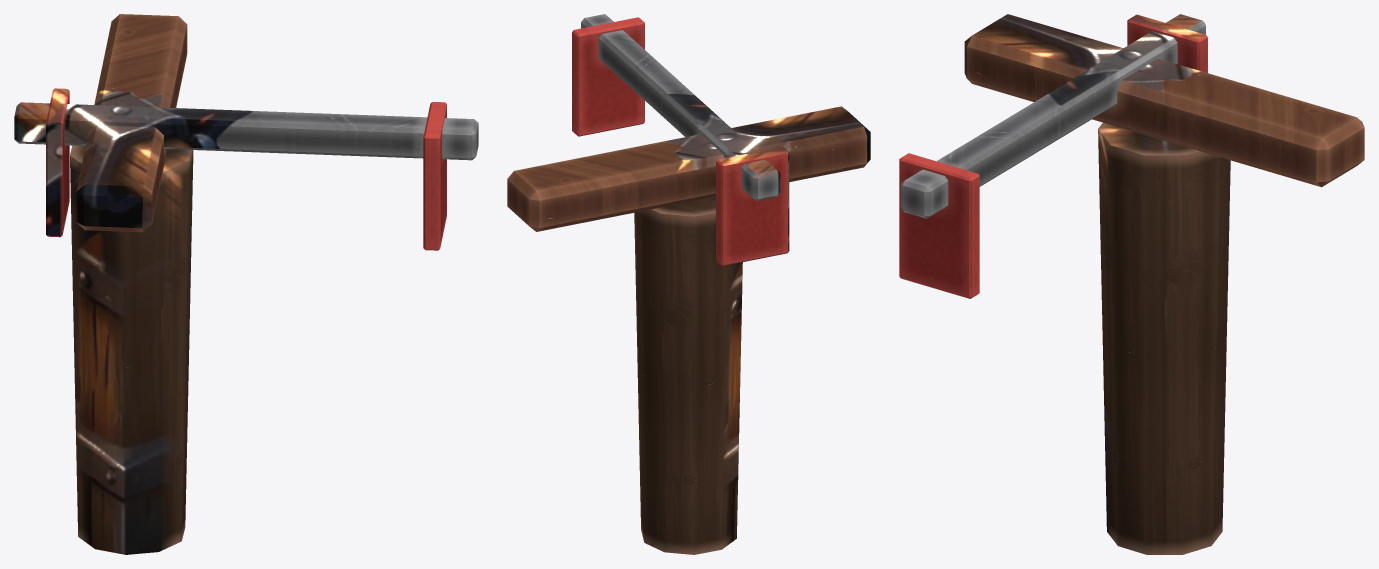
The model's file is bolt.glb.
The picture shows the model from 3 angles, left to right: view 1: azimuth 30°, elevation 25°; view 2: azimuth 150°, elevation 25°; view 3: azimuth 270°, elevation 25°; orthographic projection. The views are drawn at different scales.
Parts seen in each view (by area): view 1: bolt; view 2: bolt; view 3: bolt.
Part boxes in pixels (x1,y1,x2,y2): bolt: [14, 14, 478, 554]; bolt: [507, 14, 870, 554]; bolt: [899, 14, 1364, 554].
Size of the model in its own units: 0.9868 by 1.16 by 1.05.
Materials: 1 (1 with a texture image).
